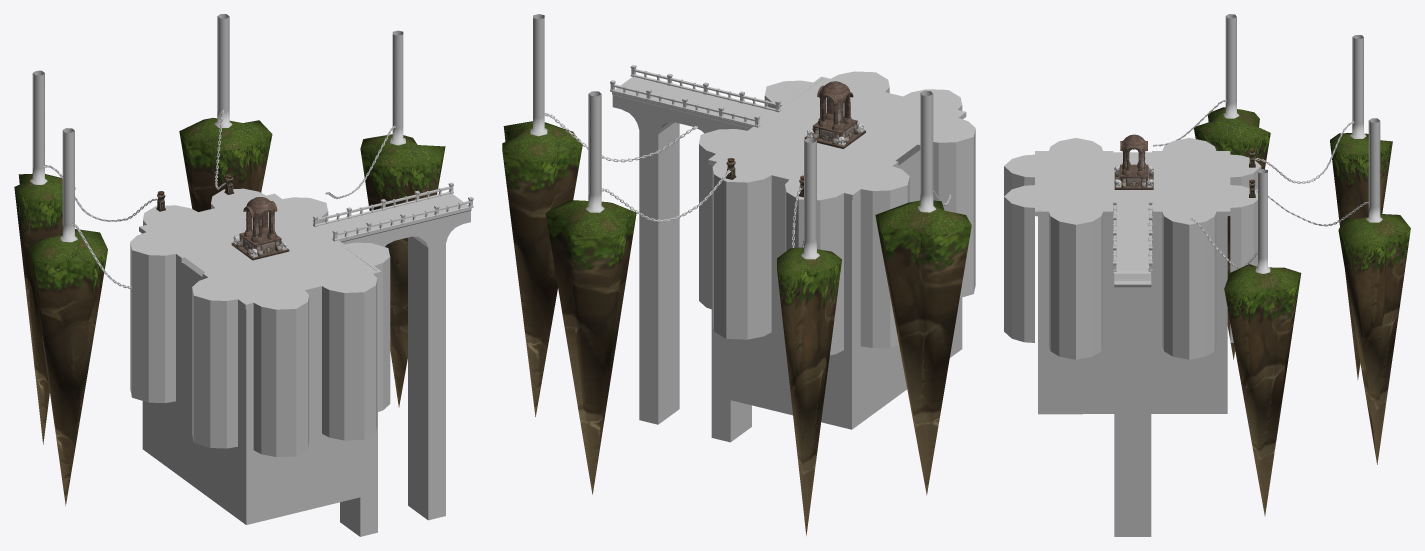
File: Area_005.FBX
3 views of the same model, side by side, from view 1: azimuth 30°, elevation 25°; view 2: azimuth 150°, elevation 25°; view 3: azimuth 270°, elevation 25° (orthographic). The views are drawn at different scales.
Visible parts, largest first — view 1: Area_005; view 2: Area_005; view 3: Area_005.
Boxes of the visible parts, x1=… form: Area_005: x1=14, y1=14, x2=473, y2=536; Area_005: x1=502, y1=14, x2=975, y2=535; Area_005: x1=1004, y1=14, x2=1410, y2=536.
Bounding box in the file's own units: 6253 × 5838 × 5659.
